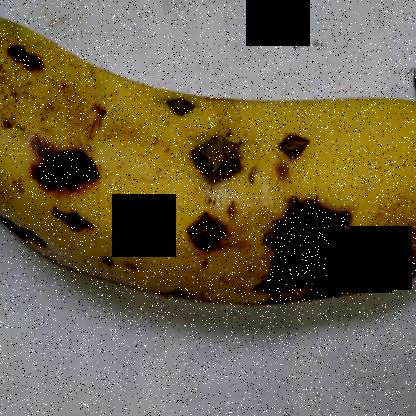rotten: (262, 186, 396, 316), (19, 125, 113, 205), (173, 197, 246, 264), (183, 124, 244, 184), (0, 201, 47, 262), (8, 22, 48, 86), (266, 118, 317, 166), (158, 84, 204, 134), (52, 201, 103, 242)
